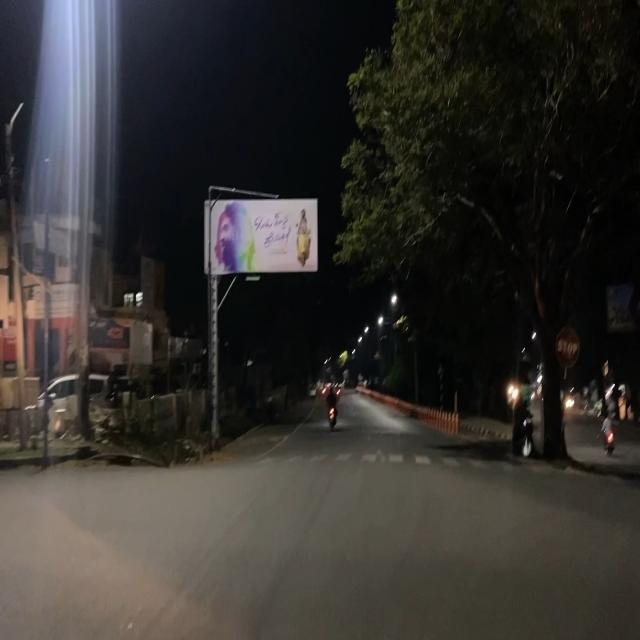bien_cam: (553, 321, 581, 370)
